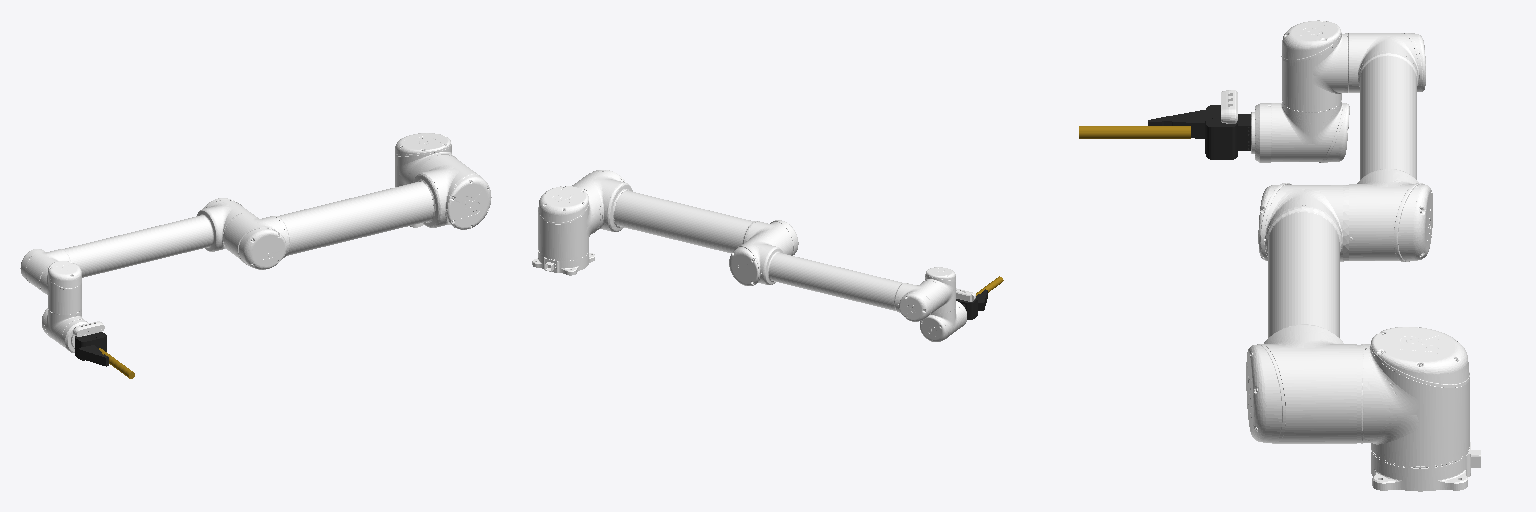
The robot description file, URDF, robot "ur10_robotis_d435":
<?xml version="1.0" ?>
<!-- =================================================================================== -->
<!-- |    This document was autogenerated by xacro from xacro/ur10_robot.urdf.xacro    | -->
<!-- |    EDITING THIS FILE BY HAND IS NOT RECOMMENDED                                 | -->
<!-- =================================================================================== -->
<robot name="ur10_robotis_d435">
  <!--
  Author: Kelsey Hawkins
  Contributers: Jimmy Da Silva, Ajit Krisshna N L, Muhammad Asif Rana
-->
  <!-- ROS base_link to UR 'Base' Coordinates transform -->
  <link name="base">
    <inertial>
      <mass value="1e-3"/>
      <origin rpy="0 0 0" xyz="0.0 0.0 0.0"/>
      <inertia ixx="1e-5" ixy="0.0" ixz="0.0" iyy="1e-5" iyz="0.0" izz="1e-5"/>
    </inertial>
  </link>
  <joint name="base_link-base_fixed_joint" type="fixed">
    <!-- NOTE: this rotation is only needed as long as base_link itself is
                 not corrected wrt the real robot (ie: rotated over 180
                 degrees)
      -->
    <origin rpy="0 0 -3.141592653589793" xyz="0 0 0"/>
    <parent link="base"/>
    <child link="base_link"/>
  </joint>
  <!-- measured from model -->
  <!-- Calibration values used from ELPIS UR10 Robot -->
  <link name="base_link">
    <visual>
      <geometry>
        <mesh filename="package://ur10/visual/base.obj"/>
      </geometry>
      <material name="white">
        <color rgba="1.0 1.0 1.0 1.0"/>
      </material>
    </visual>
    <collision>
      <geometry>
        <mesh filename="package://ur10/collision/base.stl"/>
      </geometry>
    </collision>
    <inertial>
      <mass value="4.0"/>
      <origin rpy="0 0 0" xyz="0.0 0.0 0.0"/>
      <inertia ixx="0.0061063308908" ixy="0.0" ixz="0.0" iyy="0.0061063308908" iyz="0.0" izz="0.01125"/>
    </inertial>
  </link>
  <joint name="shoulder_pan_joint" type="revolute">
    <parent link="base_link"/>
    <child link="shoulder_link"/>
    <origin rpy="0.0 0.0 0.0" xyz="0.0 0.0 0.1273"/>
    <axis xyz="0 0 1"/>
    <limit effort="330.0" lower="-1000" upper="1000" velocity="2.16"/>
    <dynamics damping="0.0" friction="0.0"/>
  </joint>
  <link name="shoulder_link">
    <visual>
      <geometry>
        <mesh filename="package://ur10/visual/shoulder.obj"/>
      </geometry>
      <material name="white">
        <color rgba="1.0 1.0 1.0 1.0"/>
      </material>
    </visual>
    <collision>
      <geometry>
        <mesh filename="package://ur10/collision/shoulder.stl"/>
      </geometry>
    </collision>
    <inertial>
      <mass value="7.778"/>
      <origin rpy="0 0 0" xyz="0.0 0.0 0.0"/>
      <inertia ixx="0.03147431257693659" ixy="0.0" ixz="0.0" iyy="0.03147431257693659" iyz="0.0" izz="0.021875624999999996"/>
    </inertial>
  </link>
  <joint name="shoulder_lift_joint" type="revolute">
    <parent link="shoulder_link"/>
    <child link="upper_arm_link"/>
    <origin rpy="0.0 1.5707963267948966 0.0" xyz="0.0 0.220941 0.0"/>
    <axis xyz="0 1 0"/>
    <limit effort="330.0" lower="-6.283185307179586" upper="6.283185307179586" velocity="2.16"/>
    <dynamics damping="0.0" friction="0.0"/>
  </joint>
  <link name="upper_arm_link">
    <visual>
      <geometry>
        <mesh filename="package://ur10/visual/upperarm.obj"/>
      </geometry>
      <material name="white">
        <color rgba="1.0 1.0 1.0 1.0"/>
      </material>
    </visual>
    <collision>
      <geometry>
        <mesh filename="package://ur10/collision/upperarm.stl"/>
      </geometry>
    </collision>
    <inertial>
      <mass value="12.93"/>
      <origin rpy="0 0 0" xyz="0.0 -0.045 0.306"/>
      <inertia ixx="0.42175380379841093" ixy="0.0" ixz="0.0" iyy="0.42175380379841093" iyz="0.0" izz="0.03636562499999999"/>
    </inertial>
  </link>
  <joint name="elbow_joint" type="revolute">
    <parent link="upper_arm_link"/>
    <child link="forearm_link"/>
    <origin rpy="0.0 0.0 0.0" xyz="0.0 -0.1719 0.612"/>
    <axis xyz="0 1 0"/>
    <limit effort="150.0" lower="-3.141592653589793" upper="3.141592653589793" velocity="3.15"/>
    <dynamics damping="0.0" friction="0.0"/>
  </joint>
  <link name="forearm_link">
    <visual>
      <geometry>
        <mesh filename="package://ur10/visual/forearm.obj"/>
      </geometry>
      <material name="white">
        <color rgba="1.0 1.0 1.0 1.0"/>
      </material>
    </visual>
    <collision>
      <geometry>
        <mesh filename="package://ur10/collision/forearm.stl"/>
      </geometry>
    </collision>
    <inertial>
      <mass value="3.87"/>
      <origin rpy="0 0 0" xyz="0.0 0.0 0.28615"/>
      <inertia ixx="0.11106969409710458" ixy="0.0" ixz="0.0" iyy="0.11106969409710458" iyz="0.0" izz="0.010884375"/>
    </inertial>
  </link>
  <joint name="wrist_1_joint" type="revolute">
    <parent link="forearm_link"/>
    <child link="wrist_1_link"/>
    <origin rpy="0.0 1.5707963267948966 0.0" xyz="0.0 0.0 0.5723"/>
    <axis xyz="0 1 0"/>
    <limit effort="54.0" lower="-6.283185307179586" upper="6.283185307179586" velocity="3.2"/>
    <dynamics damping="0.0" friction="0.0"/>
  </joint>
  <link name="wrist_1_link">
    <visual>
      <geometry>
        <mesh filename="package://ur10/visual/wrist1.obj"/>
      </geometry>
      <material name="white">
        <color rgba="1.0 1.0 1.0 1.0"/>
      </material>
    </visual>
    <collision>
      <geometry>
        <mesh filename="package://ur10/collision/wrist1.stl"/>
      </geometry>
    </collision>
    <inertial>
      <mass value="1.96"/>
      <origin rpy="0 0 0" xyz="0.0 0.1149 0.0"/>
      <inertia ixx="0.005108247956699999" ixy="0.0" ixz="0.0" iyy="0.005108247956699999" iyz="0.0" izz="0.005512499999999999"/>
    </inertial>
  </link>
  <joint name="wrist_2_joint" type="revolute">
    <parent link="wrist_1_link"/>
    <child link="wrist_2_link"/>
    <origin rpy="0.0 0.0 0.0" xyz="0.0 0.1149 0.0"/>
    <axis xyz="0 0 1"/>
    <limit effort="54.0" lower="-6.283185307179586" upper="6.283185307179586" velocity="3.2"/>
    <dynamics damping="0.0" friction="0.0"/>
  </joint>
  <link name="wrist_2_link">
    <visual>
      <geometry>
        <mesh filename="package://ur10/visual/wrist2.obj"/>
      </geometry>
      <material name="white">
        <color rgba="1.0 1.0 1.0 1.0"/>
      </material>
    </visual>
    <collision>
      <geometry>
        <mesh filename="package://ur10/collision/wrist2.stl"/>
      </geometry>
    </collision>
    <inertial>
      <mass value="1.96"/>
      <origin rpy="0 0 0" xyz="0.0 0.0 0.1157"/>
      <inertia ixx="0.005108247956699999" ixy="0.0" ixz="0.0" iyy="0.005108247956699999" iyz="0.0" izz="0.005512499999999999"/>
    </inertial>
  </link>
  <joint name="wrist_3_joint" type="revolute">
    <parent link="wrist_2_link"/>
    <child link="wrist_3_link"/>
    <origin rpy="0.0 0.0 0.0" xyz="0.0 0.0 0.1157"/>
    <axis xyz="0 1 0"/>
    <limit effort="54.0" lower="-1000" upper="1000" velocity="3.2"/>
    <dynamics damping="0.0" friction="0.0"/>
  </joint>
  <link name="wrist_3_link">
    <visual>
      <geometry>
        <mesh filename="package://ur10/visual/wrist3.obj"/>
      </geometry>
      <material name="white">
        <color rgba="1.0 1.0 1.0 1.0"/>
      </material>
    </visual>
    <collision>
      <geometry>
        <mesh filename="package://ur10/collision/wrist3.stl"/>
      </geometry>
    </collision>
    <inertial>
      <mass value="0.202"/>
      <origin rpy="1.5707963267948966 0 0" xyz="0.0 0.07695 0.0"/>
      <inertia ixx="0.00011792166116465" ixy="0.0" ixz="0.0" iyy="0.00011792166116465" iyz="0.0" izz="0.00020452500000000002"/>
    </inertial>
  </link>
  <transmission name="shoulder_pan_trans">
    <type>transmission_interface/SimpleTransmission</type>
    <joint name="shoulder_pan_joint">
      <hardwareInterface>hardware_interface/PositionJointInterface</hardwareInterface>
    </joint>
    <actuator name="shoulder_pan_motor">
      <mechanicalReduction>1</mechanicalReduction>
    </actuator>
  </transmission>
  <transmission name="shoulder_lift_trans">
    <type>transmission_interface/SimpleTransmission</type>
    <joint name="shoulder_lift_joint">
      <hardwareInterface>hardware_interface/PositionJointInterface</hardwareInterface>
    </joint>
    <actuator name="shoulder_lift_motor">
      <mechanicalReduction>1</mechanicalReduction>
    </actuator>
  </transmission>
  <transmission name="elbow_trans">
    <type>transmission_interface/SimpleTransmission</type>
    <joint name="elbow_joint">
      <hardwareInterface>hardware_interface/PositionJointInterface</hardwareInterface>
    </joint>
    <actuator name="elbow_motor">
      <mechanicalReduction>1</mechanicalReduction>
    </actuator>
  </transmission>
  <transmission name="wrist_1_trans">
    <type>transmission_interface/SimpleTransmission</type>
    <joint name="wrist_1_joint">
      <hardwareInterface>hardware_interface/PositionJointInterface</hardwareInterface>
    </joint>
    <actuator name="wrist_1_motor">
      <mechanicalReduction>1</mechanicalReduction>
    </actuator>
  </transmission>
  <transmission name="wrist_2_trans">
    <type>transmission_interface/SimpleTransmission</type>
    <joint name="wrist_2_joint">
      <hardwareInterface>hardware_interface/PositionJointInterface</hardwareInterface>
    </joint>
    <actuator name="wrist_2_motor">
      <mechanicalReduction>1</mechanicalReduction>
    </actuator>
  </transmission>
  <transmission name="wrist_3_trans">
    <type>transmission_interface/SimpleTransmission</type>
    <joint name="wrist_3_joint">
      <hardwareInterface>hardware_interface/PositionJointInterface</hardwareInterface>
    </joint>
    <actuator name="wrist_3_motor">
      <mechanicalReduction>1</mechanicalReduction>
    </actuator>
  </transmission>
  <gazebo reference="shoulder_link">
    <selfCollide>true</selfCollide>
  </gazebo>
  <gazebo reference="upper_arm_link">
    <selfCollide>true</selfCollide>
  </gazebo>
  <gazebo reference="forearm_link">
    <selfCollide>true</selfCollide>
  </gazebo>
  <gazebo reference="wrist_1_link">
    <selfCollide>true</selfCollide>
  </gazebo>
  <gazebo reference="wrist_3_link">
    <selfCollide>true</selfCollide>
  </gazebo>
  <gazebo reference="wrist_2_link">
    <selfCollide>true</selfCollide>
  </gazebo>
  <gazebo reference="ee_link">
    <selfCollide>true</selfCollide>
  </gazebo>
  <!-- ROS base_link to UR 'Base' Coordinates transform -->
  <!-- Frame coincident with all-zeros TCP on UR controller -->
  <link name="tool0">
    <inertial>
      <mass value="1e-3"/>
      <origin rpy="0 0 0" xyz="0.0 0.0 0.0"/>
      <inertia ixx="1e-5" ixy="0.0" ixz="0.0" iyy="1e-5" iyz="0.0" izz="1e-5"/>
    </inertial>
  </link>
  <joint name="wrist_3_link-tool0_fixed_joint" type="fixed">
    <origin rpy="-1.5707963267948966 0 0" xyz="0 0.0922 0"/>
    <parent link="wrist_3_link"/>
    <child link="tool0"/>
  </joint>
  <material name="grey">
    <color rgba="0.2 0.2 0.2 1.0"/>
  </material>
  <!-- base -->
  <joint name="tool0_rh_p12_rn_base" type="fixed">
    <origin rpy="0 0 -1.570796" xyz="0 0 0"/>
    <parent link="tool0"/>
    <child link="rh_p12_rn_base"/>
  </joint>
  <link name="rh_p12_rn_base">
    <collision>
      <origin xyz="0 0 0" rpy="0 0 0"/>
      <geometry>
        <mesh filename="package://robotis_rh_p12_rn/collision/base.stl" scale="0.001 0.001 0.001"/>
      </geometry>
    </collision>
    <visual>
      <origin xyz="0 0 0" rpy="0 0 0"/>
      <geometry>
        <mesh filename="package://robotis_rh_p12_rn/visual/base.stl" scale="0.001 0.001 0.001"/>
      </geometry>
      <material name="grey"/>
    </visual>
    <inertial>
      <origin xyz="0.000 0.000 0.032" rpy="0 0 0"/>
      <mass value="0.236"/>
      <!--<inertia ixx="0.00017" ixy="0.0" ixz="0.0" iyy="0.00011" iyz="0.0" izz="0.00017" />-->
      <!--<inertia ixx="1.0" ixy="0.0" ixz="0.0" iyy="1.0" iyz="0.0" izz="1.0" />-->
      <inertia ixx="0.001" ixy="0.0" ixz="0.0" iyy="0.001" iyz="0.0" izz="0.001" />
    </inertial>
  </link>
  <!-- Joint -->
  <joint name="rh_p12_rn" type="revolute">
    <parent link="rh_p12_rn_base"/>
    <child link="rh_p12_rn_r1"/>
    <origin xyz="0.0 0.008 0.058" rpy="0 0 0"/>
    <axis xyz="1 0 0"/>
    <limit velocity="6.5" effort="1000" lower="0.95" upper="0.95" />
    <dynamics damping="0.7"/>
  </joint>
  <gazebo reference="rh_p12_rn">
    <PID type="position">
      <p>1000.0</p>
      <i>0.0</i>
      <d>100.0</d>
    </PID>
  </gazebo>
  <transmission name="tran_r1">
    <type>transmission_interface/SimpleTransmission</type>
    <joint name="rh_p12_rn">
      <hardwareInterface>hardware_interface/PositionJointInterface</hardwareInterface>
    </joint>
    <actuator name="motor_r1">
      <hardwareInterface>hardware_interface/PositionJointInterface</hardwareInterface>
      <mechanicalReduction>1</mechanicalReduction>
    </actuator>
  </transmission>
  <!-- rh_p12_rn_r1 -->
  <link name="rh_p12_rn_r1">
    <collision>
      <origin xyz="0 0 0" rpy="0 0 0"/>
      <geometry>
        <mesh filename="package://robotis_rh_p12_rn/collision/r1.stl" scale="0.001 0.001 0.001"/>
      </geometry>
    </collision>
    <visual>
      <origin xyz="0 0 0" rpy="0 0 0"/>
      <geometry>
        <mesh filename="package://robotis_rh_p12_rn/visual/r1.stl" scale="0.001 0.001 0.001"/>
      </geometry>
      <material name="grey"/>
    </visual>
    <inertial>
      <origin xyz="0.000 0.034 0.004" rpy="0 0 0"/>
      <mass value="0.068"/>
      <!--<inertia ixx="0.00004" ixy="0.0" ixz="0.0" iyy="0.00002" iyz="-0.00001" izz="0.00002" />-->
      <!--<inertia ixx="1.0" ixy="0.0" ixz="0.0" iyy="1.0" iyz="0.0" izz="1.0" />-->
      <inertia ixx="0.001" ixy="0.0" ixz="0.0" iyy="0.001" iyz="0.0" izz="0.001" />
    </inertial>
  </link>
  <!-- Right Joint 2 -->
  <joint name="rh_r2" type="revolute">
    <parent link="rh_p12_rn_r1"/>
    <child link="rh_p12_rn_r2"/>
    <origin xyz="0.0 0.0493634 0.0285" rpy="0 0 0"/>
    <axis xyz="-1 0 0"/>
    <limit velocity="6.5" effort="1000" lower="0.95" upper="0.95" />
    <dynamics damping="0.7"/>
    <mimic joint="rh_p12_rn" multiplier="1" offset="0" />
  </joint>
  <gazebo reference="rh_r2">
    <PID type="position">
      <p>1000.0</p>
      <i>0.0</i>
      <d>100.0</d>
    </PID>
  </gazebo>
  <transmission name="tran_r2">
    <type>transmission_interface/SimpleTransmission</type>
    <joint name="rh_r2">
      <hardwareInterface>hardware_interface/PositionJointInterface</hardwareInterface>
    </joint>
    <actuator name="motor_r2">
      <hardwareInterface>hardware_interface/PositionJointInterface</hardwareInterface>
      <mechanicalReduction>1</mechanicalReduction>
    </actuator>
  </transmission>
  <!-- rh_p12_rn_r2 -->
  <link name="rh_p12_rn_r2">
    <collision>
      <origin xyz="0 0 0" rpy="0 0 0"/>
      <geometry>
        <mesh filename="package://robotis_rh_p12_rn/collision/r2.stl" scale="0.001 0.001 0.001"/>
      </geometry>
    </collision>
    <visual>
      <origin xyz="0 0 0" rpy="0 0 0"/>
      <geometry>
        <mesh filename="package://robotis_rh_p12_rn/visual/r2.stl" scale="0.001 0.001 0.001"/>
      </geometry>
      <material name="grey"/>
    </visual>
    <inertial>
      <origin xyz="0.000 0.006 0.011" rpy="0 0 0"/>
      <mass value="0.022"/>
      <!--<inertia ixx="0.0" ixy="0.0" ixz="0.0" iyy="0.00001" iyz="0.0" izz="0.0" />-->
      <!--<inertia ixx="1.0" ixy="0.0" ixz="0.0" iyy="1.0" iyz="0.0" izz="1.0" />-->
      <inertia ixx="0.001" ixy="0.0" ixz="0.0" iyy="0.001" iyz="0.0" izz="0.001" />
    </inertial>
    <contact>
      <friction_anchor/>
      <stiffness value="30000.0"/>
      <damping value="1000.0"/>
      <spinning_friction value="0.1"/>
      <lateral_friction value="1.0"/>
    </contact>
  </link>
  <!-- Left Joint 1 -->
  <joint name="rh_l1" type="revolute">
    <parent link="rh_p12_rn_base"/>
    <child link="rh_p12_rn_l1"/>
    <origin xyz="0.0 -0.008 0.058" rpy="0 0 0"/>
    <axis xyz="-1 0 0"/>
    <limit velocity="6.5" effort="1000" lower="0.95" upper="0.95" />
    <dynamics damping="0.7"/>
    <mimic joint="rh_p12_rn" multiplier="1" offset="0" />
  </joint>
  <gazebo reference="rh_l1">
    <PID type="position">
      <p>1000.0</p>
      <i>0.0</i>
      <d>100.0</d>
    </PID>
  </gazebo>
  <transmission name="tran_l1">
    <type>transmission_interface/SimpleTransmission</type>
    <joint name="rh_l1">
      <hardwareInterface>hardware_interface/PositionJointInterface</hardwareInterface>
    </joint>
    <actuator name="motor_l1">
      <hardwareInterface>hardware_interface/PositionJointInterface</hardwareInterface>
      <mechanicalReduction>1</mechanicalReduction>
    </actuator>
  </transmission>
  <!-- rh_p12_rn_l1 -->
  <link name="rh_p12_rn_l1">
    <collision>
      <origin xyz="0 0 0" rpy="0 0 0"/>
      <geometry>
        <mesh filename="package://robotis_rh_p12_rn/collision/l1.stl" scale="0.001 0.001 0.001"/>
      </geometry>
    </collision>
    <visual>
      <origin xyz="0 0 0" rpy="0 0 0"/>
      <geometry>
        <mesh filename="package://robotis_rh_p12_rn/visual/l1.stl" scale="0.001 0.001 0.001"/>
      </geometry>
      <material name="grey"/>
    </visual>
    <inertial>
      <origin xyz="0.000 -0.034 0.004" rpy="0 0 0"/>
      <mass value="0.068"/>
      <!--<inertia ixx="0.00004" ixy="0.0" ixz="0.0" iyy="0.00002" iyz="0.00001" izz="0.00002" />-->
      <!--<inertia ixx="1.0" ixy="0.0" ixz="0.0" iyy="1.0" iyz="0.0" izz="1.0" />-->
      <inertia ixx="0.001" ixy="0.0" ixz="0.0" iyy="0.001" iyz="0.0" izz="0.001" />
    </inertial>
  </link>
  <!-- Left Joint 2 -->
  <joint name="rh_l2" type="revolute">
    <parent link="rh_p12_rn_l1"/>
    <child link="rh_p12_rn_l2"/>
    <origin xyz="0.0 -0.0493634 0.0285" rpy="0 0 0"/>
    <axis xyz="1 0 0"/>
    <limit velocity="6.5" effort="1000" lower="0.95" upper="0.95" />
    <dynamics damping="0.7"/>
    <mimic joint="rh_p12_rn" multiplier="1" offset="0" />
  </joint>
  <gazebo reference="rh_l2">
    <PID type="position">
      <p>1000.0</p>
      <i>0.0</i>
      <d>100.0</d>
    </PID>
  </gazebo>
  <transmission name="tran_l2">
    <type>transmission_interface/SimpleTransmission</type>
    <joint name="rh_l2">
      <hardwareInterface>hardware_interface/PositionJointInterface</hardwareInterface>
    </joint>
    <actuator name="motor_l2">
      <hardwareInterface>hardware_interface/PositionJointInterface</hardwareInterface>
      <mechanicalReduction>1</mechanicalReduction>
    </actuator>
  </transmission>
  <!-- rh_p12_rn_l2 -->
  <link name="rh_p12_rn_l2">
    <collision>
      <origin xyz="0 0 0" rpy="0 0 0"/>
      <geometry>
        <mesh filename="package://robotis_rh_p12_rn/collision/l2.stl" scale="0.001 0.001 0.001"/>
      </geometry>
    </collision>
    <visual>
      <origin xyz="0 0 0" rpy="0 0 0"/>
      <geometry>
        <mesh filename="package://robotis_rh_p12_rn/visual/l2.stl" scale="0.001 0.001 0.001"/>
      </geometry>
      <material name="grey"/>
    </visual>
    <inertial>
      <origin xyz="0.000 -0.006 0.011" rpy="0 0 0"/>
      <mass value="0.022"/>
      <!--<inertia ixx="0.0" ixy="0.0" ixz="0.0" iyy="0.00001" iyz="0.0" izz="0.0" />-->
      <!--<inertia ixx="1.0" ixy="0.0" ixz="0.0" iyy="1.0" iyz="0.0" izz="1.0" />-->
      <inertia ixx="0.001" ixy="0.0" ixz="0.0" iyy="0.001" iyz="0.0" izz="0.001" />
    </inertial>
    <contact>
      <friction_anchor/>
      <stiffness value="30000.0"/>
      <damping value="1000.0"/>
      <spinning_friction value="0.1"/>
      <lateral_friction value="1.0"/>
    </contact>
  </link>
  <!-- EE -->
  <joint name="ee_fixed_joint" type="fixed">
    <parent link="rh_p12_rn_base"/>
    <child link="ee_link"/>
    <origin rpy="0.0 0.0 0.0" xyz="0.0 0.0 0.260"/>
  </joint>
  <link name="ee_link">
    <inertial>
      <mass value="1e-2"/>
      <origin rpy="0 0 0" xyz="0.0 0.0 0.0"/>
      <inertia ixx="1e-3" ixy="0.0" ixz="0.0" iyy="1e-3" iyz="0.0" izz="1e-3"/>
    </inertial>
    <collision>
      <origin xyz="0 0 -0.085" rpy="0 0 0"/>
      <geometry>
        <cylinder length="0.17" radius="0.01"/>
      </geometry>
    </collision>
    <visual>
      <origin xyz="0 0 -0.085" rpy="0 0 0"/>
      <geometry>
        <cylinder length="0.17" radius="0.01"/>
      </geometry>
      <material name="gold">
        <color rgba="0.7 0.55 0.15 1.0"/>
      </material>
    </visual>
  </link>
  <!-- camera body, with origin at bottom screw mount -->
  <joint name="d435_joint" type="fixed">
    <origin rpy="0 -1.5707963267948966 0" xyz="-0.03 0 0.03"/>
    <parent link="rh_p12_rn_base"/>
    <child link="d435_bottom_screw_frame"/>
  </joint>
  <link name="d435_bottom_screw_frame">
    <inertial>
      <origin rpy="0 0 0" xyz="0 0 0"/>
      <mass value="0.001"/>
      <inertia ixx="1E-5" ixy="0" ixz="0" iyy="1E-5" iyz="-0" izz="1E-5"/>
    </inertial>
  </link>
  <joint name="d435_link_joint" type="fixed">
    <origin rpy="0 0 0" xyz="0 0.0175 0.0125"/>
    <parent link="d435_bottom_screw_frame"/>
    <child link="d435_link"/>
  </joint>
  <link name="d435_link">
    <visual>
      <origin rpy="1.5707963267948966 0 1.5707963267948966" xyz="0.0149 -0.0175 0"/>
      <geometry>
        <mesh filename="package://realsense2/visual/d435.obj"/>
      </geometry>
      <material name="white">
        <color rgba="1.0 1.0 1.0 1.0"/>
      </material>
    </visual>
    <collision>
      <origin rpy="0 0 0" xyz="0 -0.0175 0"/>
      <geometry>
        <box size="0.02505 0.09 0.025"/>
      </geometry>
    </collision>
    <inertial>
      <!-- The following are not reliable values, and should not be used for modeling -->
      <mass value="0.564"/>
      <origin xyz="0 0 0"/>
      <inertia ixx="0.003881243" ixy="0.0" ixz="0.0" iyy="0.000498940" iyz="0.0" izz="0.003879257"/>
    </inertial>
  </link>
  <!-- camera depth joints and links -->
  <joint name="d435_depth_joint" type="fixed">
    <origin rpy="1.5707963267948966 0 1.5707963267948966" xyz="0 0 0"/>
    <parent link="d435_link"/>
    <child link="d435_depth_frame"/>
  </joint>
  <link name="d435_depth_frame">
    <inertial>
      <origin rpy="0 0 0" xyz="0 0 0"/>
      <mass value="0.001"/>
      <inertia ixx="1E-5" ixy="0" ixz="0" iyy="1E-5" iyz="-0" izz="1E-5"/>
    </inertial>
  </link>
  <!-- camera color joints and links -->
  <joint name="d435_color_joint" type="fixed">
    <origin rpy="0 0 0" xyz="-0.015 0 0"/>
    <parent link="d435_depth_frame"/>
    <child link="d435_color_frame"/>
  </joint>
  <link name="d435_color_frame">
    <inertial>
      <origin rpy="0 0 0" xyz="0 0 0"/>
      <mass value="0.001"/>
      <inertia ixx="1E-5" ixy="0" ixz="0" iyy="1E-5" iyz="-0" izz="1E-5"/>
    </inertial>
  </link>
</robot>

--- Facts derived from the render (not from the file) ---
Views: 3 orthographic renders of the robot side by side, from view 1: azimuth 30°, elevation 25°; view 2: azimuth 150°, elevation 25°; view 3: azimuth 270°, elevation 25°.
Model ur10_robotis_d435 with 19 links and 18 joints (10 revolute, 8 fixed), rooted at base, posed all joints at 0 but 4 set to mid-range because 0 is outside their limits (rh_p12_rn = 0.95, rh_r2 = 0.95, rh_l1 = 0.95, rh_l2 = 0.95).
Links seen in each view (by area): view 1: upper_arm_link, forearm_link, shoulder_link, wrist_1_link, wrist_2_link; view 2: upper_arm_link, forearm_link, shoulder_link, wrist_2_link, wrist_1_link, base_link; view 3: upper_arm_link, forearm_link, shoulder_link, wrist_1_link, wrist_2_link, base_link, rh_p12_rn_base, ee_link, wrist_3_link, rh_p12_rn_l1, d435_link.
Boxes of the visible links, bbox=[...] form: upper_arm_link: bbox=[225, 155, 491, 269]; forearm_link: bbox=[20, 198, 254, 292]; shoulder_link: bbox=[395, 133, 456, 186]; wrist_1_link: bbox=[40, 261, 81, 314]; wrist_2_link: bbox=[42, 308, 86, 346]; upper_arm_link: bbox=[572, 170, 798, 255]; forearm_link: bbox=[729, 235, 944, 321]; shoulder_link: bbox=[538, 186, 600, 260]; wrist_2_link: bbox=[920, 305, 963, 341]; wrist_1_link: bbox=[923, 267, 955, 312]; base_link: bbox=[532, 251, 594, 275]; upper_arm_link: bbox=[1246, 183, 1362, 443]; forearm_link: bbox=[1343, 33, 1432, 261]; shoulder_link: bbox=[1363, 327, 1469, 468]; wrist_1_link: bbox=[1281, 20, 1347, 112]; wrist_2_link: bbox=[1271, 101, 1349, 162]; base_link: bbox=[1371, 442, 1480, 491]; rh_p12_rn_base: bbox=[1205, 105, 1250, 159]; ee_link: bbox=[1079, 126, 1190, 138]; wrist_3_link: bbox=[1251, 103, 1270, 162]; rh_p12_rn_l1: bbox=[1170, 110, 1205, 138]; d435_link: bbox=[1221, 90, 1237, 123].
Bounding box of the posed robot: 1.31 × 0.6081 × 0.2501 m (x, y, z).
Meshes: 13 distinct files referenced, 11 mesh visuals loaded (3 binary STL, 8 OBJ); not drawn: 2 (reference not matched to a file when rendering).
